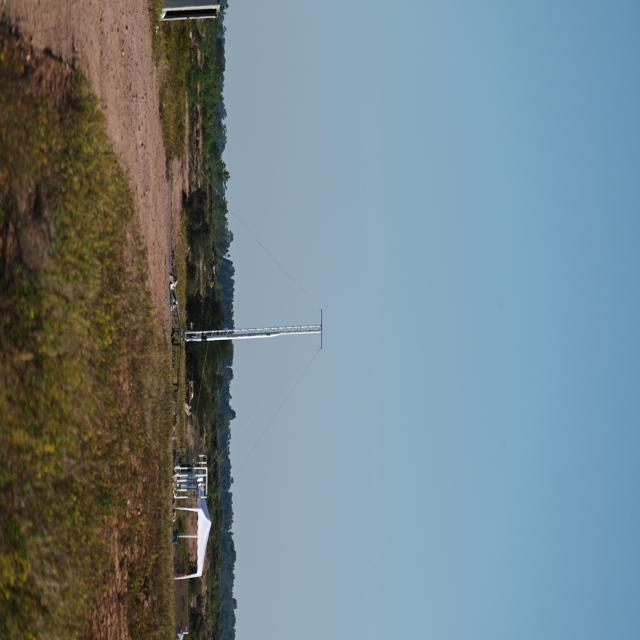Rocket: (187, 331, 280, 343)
